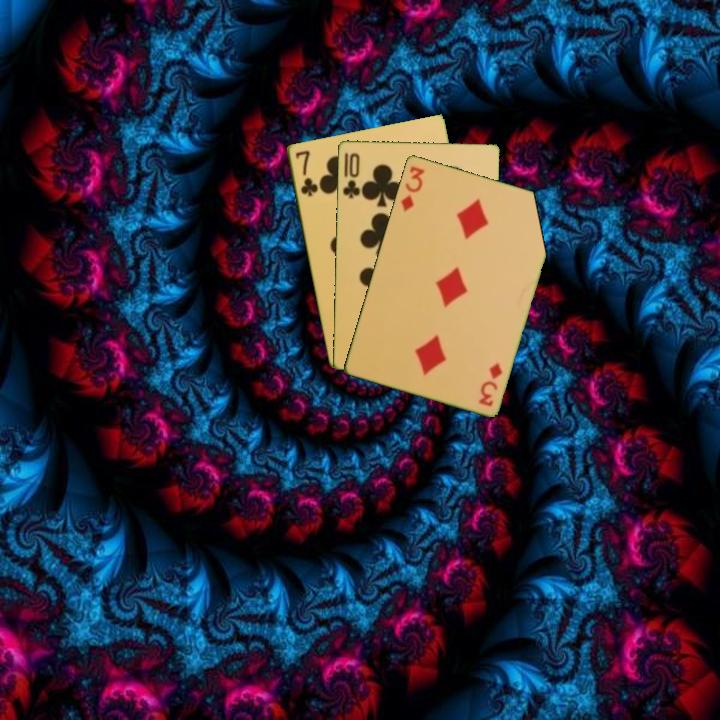10c: (339, 149, 363, 201)
3d: (397, 162, 427, 214), (474, 359, 505, 409)
7c: (291, 146, 320, 199)
